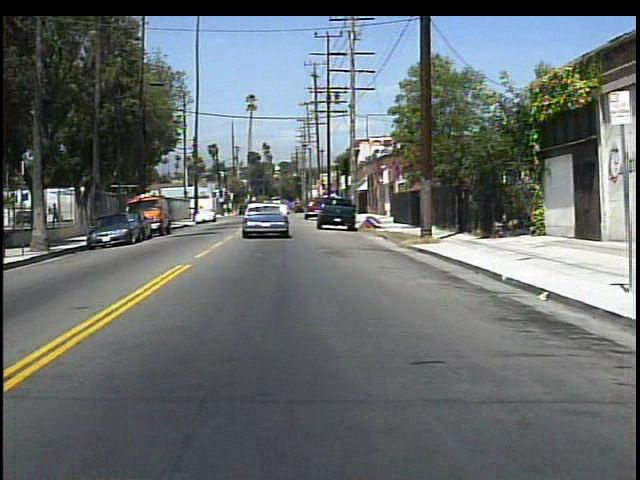person: (52, 200, 65, 229)
